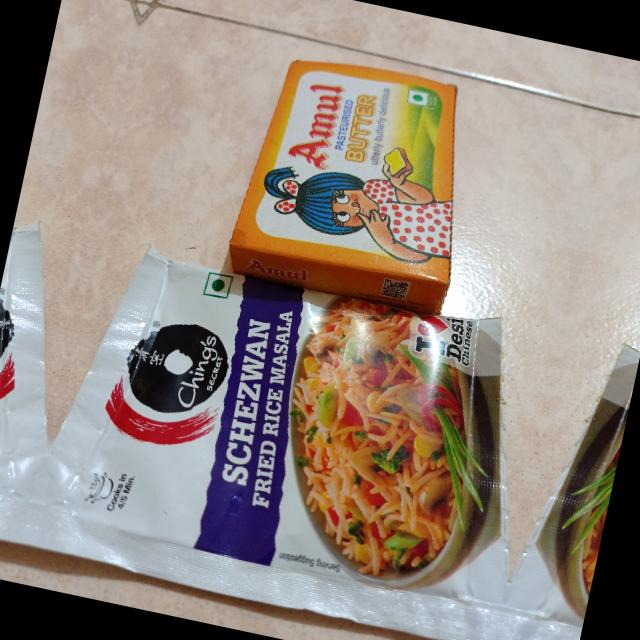Amul Butter: (222, 42, 498, 318)
Ching-s secret schezwan fried masala: (25, 241, 559, 640)
